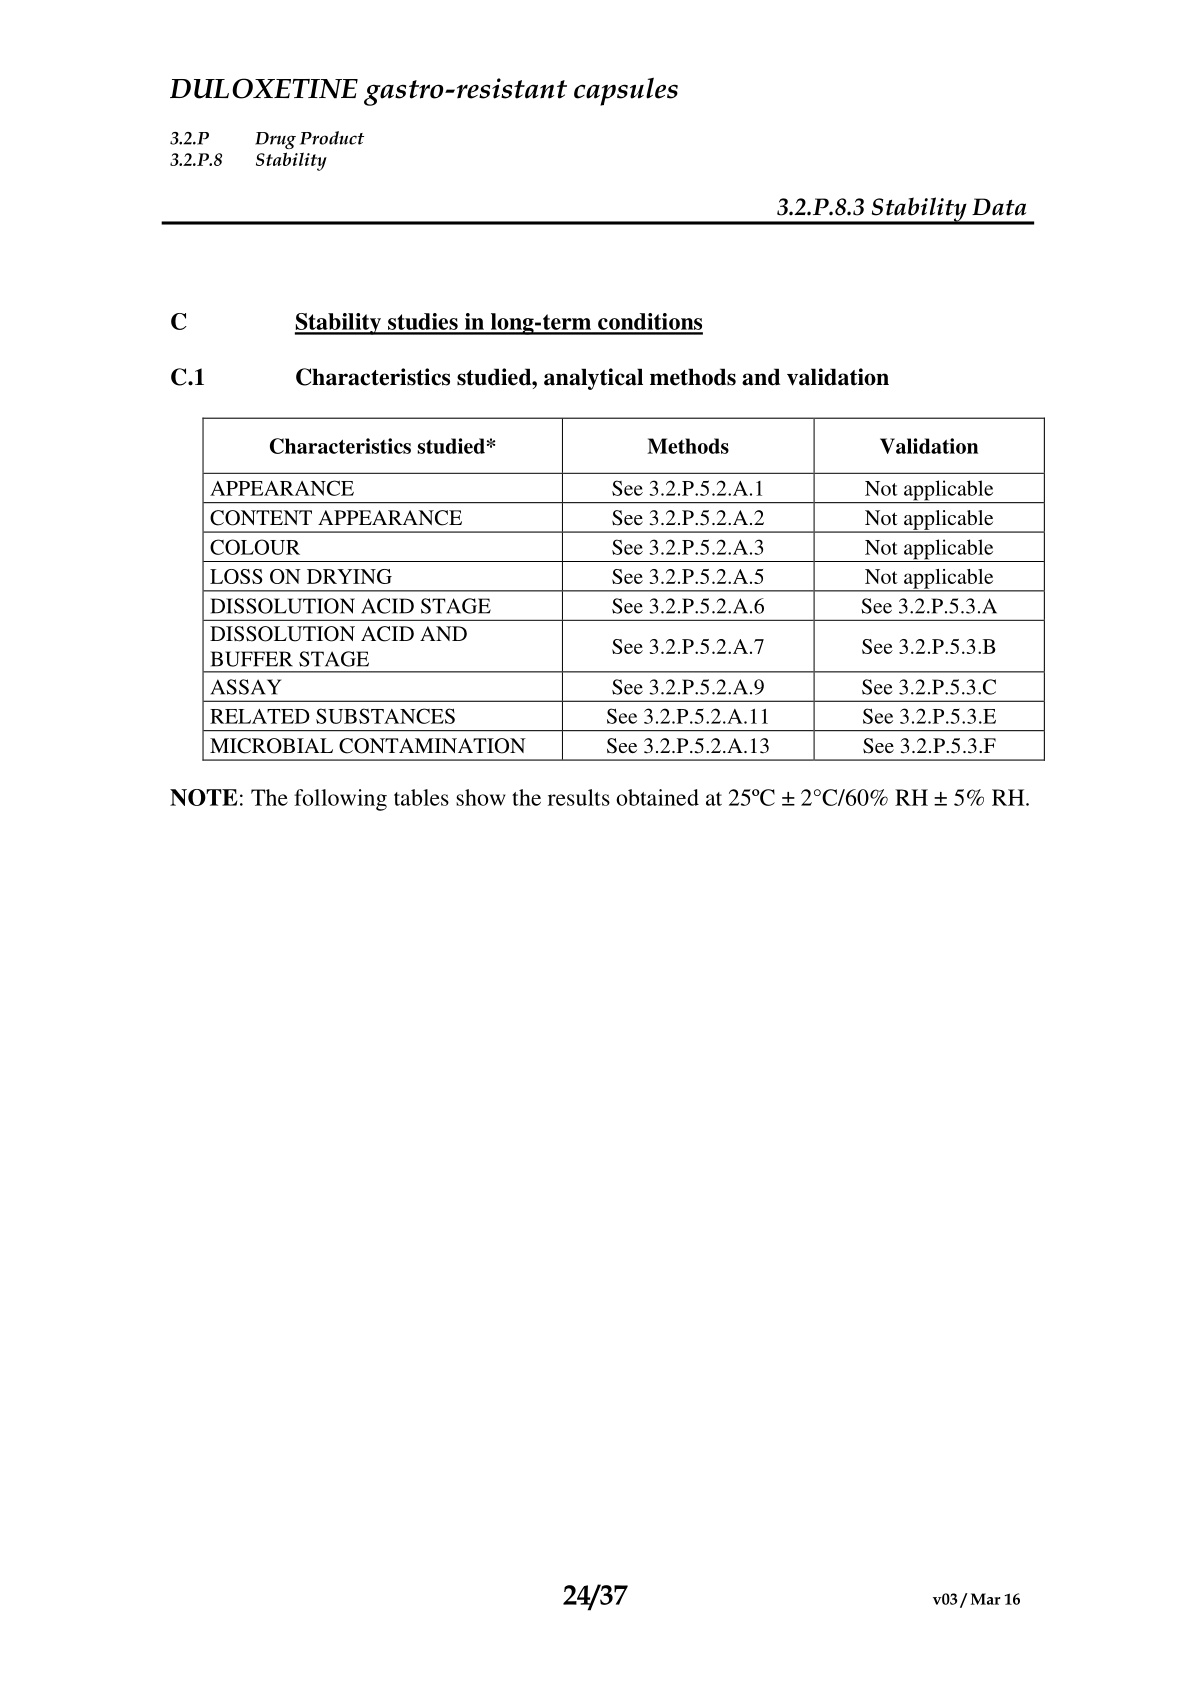full_lined: (201, 416, 1047, 761)
